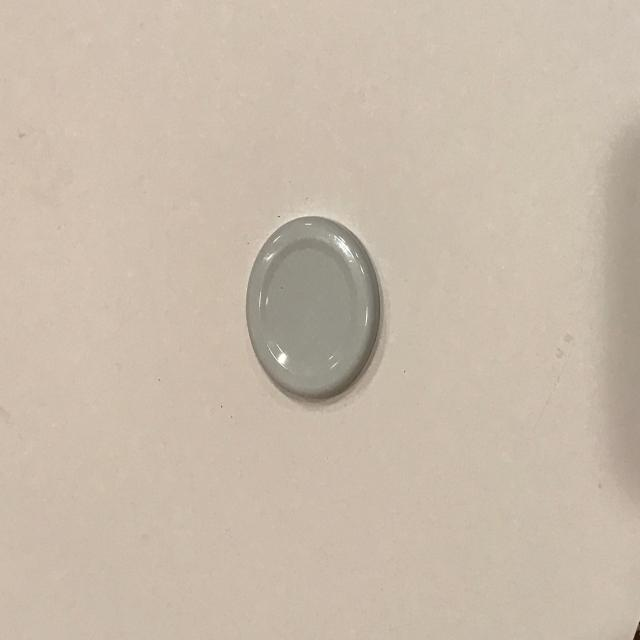metal: (245, 214, 382, 400)
